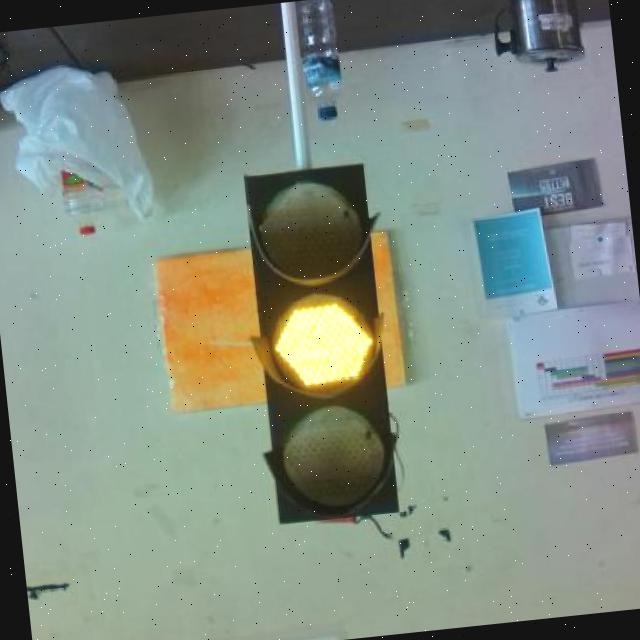yellow_light: (238, 165, 411, 531)
